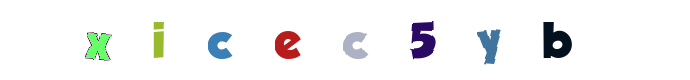5: (323, 0, 403, 80)
B: (515, 0, 595, 80)
C: (246, 0, 326, 80), (304, 0, 384, 80)
E: (303, 0, 383, 80)
I: (118, 0, 198, 80)
X: (58, 0, 138, 80)
Y: (369, 0, 449, 80)
